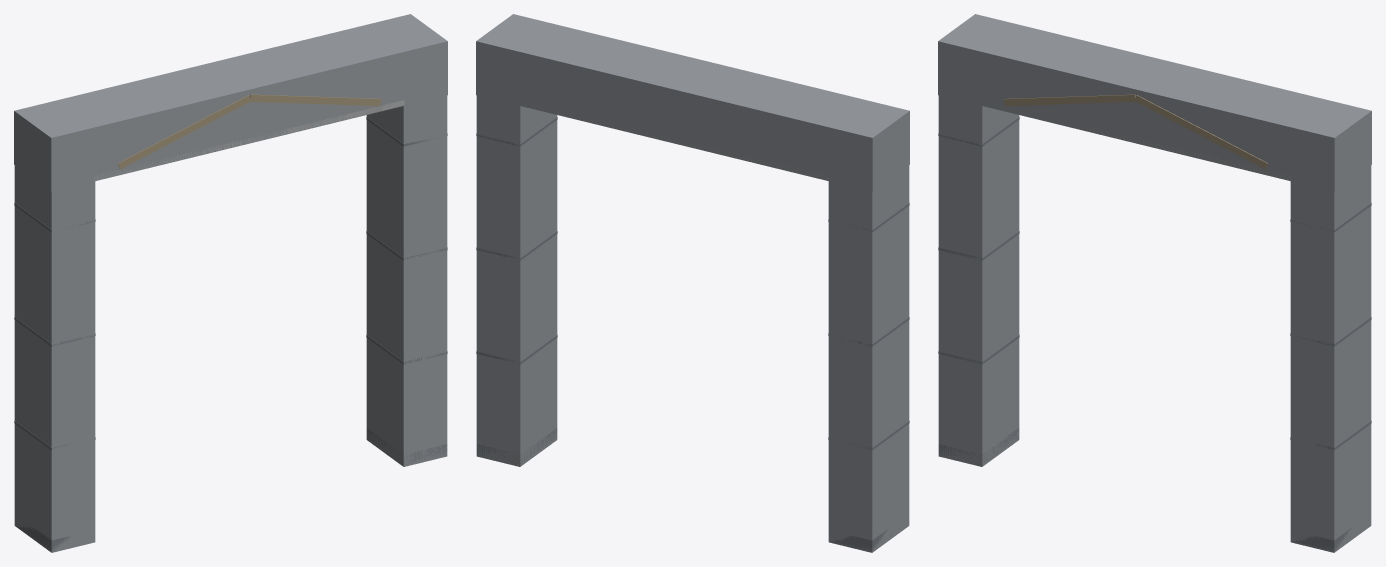
File: stair_frame.glb
3 views of the same model, side by side, from view 1: azimuth 30°, elevation 25°; view 2: azimuth 150°, elevation 25°; view 3: azimuth 330°, elevation 25° (orthographic).
Parts seen in each view (by area): view 1: stair_frame_010, stair_frame_000, stair_frame_005, stair_frame_011, stair_frame_012, stair_frame_013, stair_frame_006; view 2: stair_frame_010, stair_frame_000, stair_frame_005, stair_frame_006; view 3: stair_frame_010, stair_frame_005, stair_frame_000, stair_frame_013, stair_frame_012, stair_frame_001, stair_frame_006.
Boxes of the visible parts, x1,y1,x2,y2 form: stair_frame_010: (14,14,447,191); stair_frame_000: (14,165,95,552); stair_frame_005: (366,95,447,466); stair_frame_011: (94,100,404,180); stair_frame_012: (118,95,250,169); stair_frame_013: (249,94,381,106); stair_frame_006: (366,428,447,466); stair_frame_010: (476,14,909,191); stair_frame_000: (828,165,909,552); stair_frame_005: (476,95,557,466); stair_frame_006: (476,428,557,466); stair_frame_010: (938,14,1371,191); stair_frame_005: (1290,165,1371,552); stair_frame_000: (938,95,1019,466); stair_frame_013: (1135,95,1267,169); stair_frame_012: (1004,94,1136,106); stair_frame_001: (938,428,1019,466); stair_frame_006: (1292,526,1355,552).
Size of the model in its own units: 4 by 4 by 0.66.
